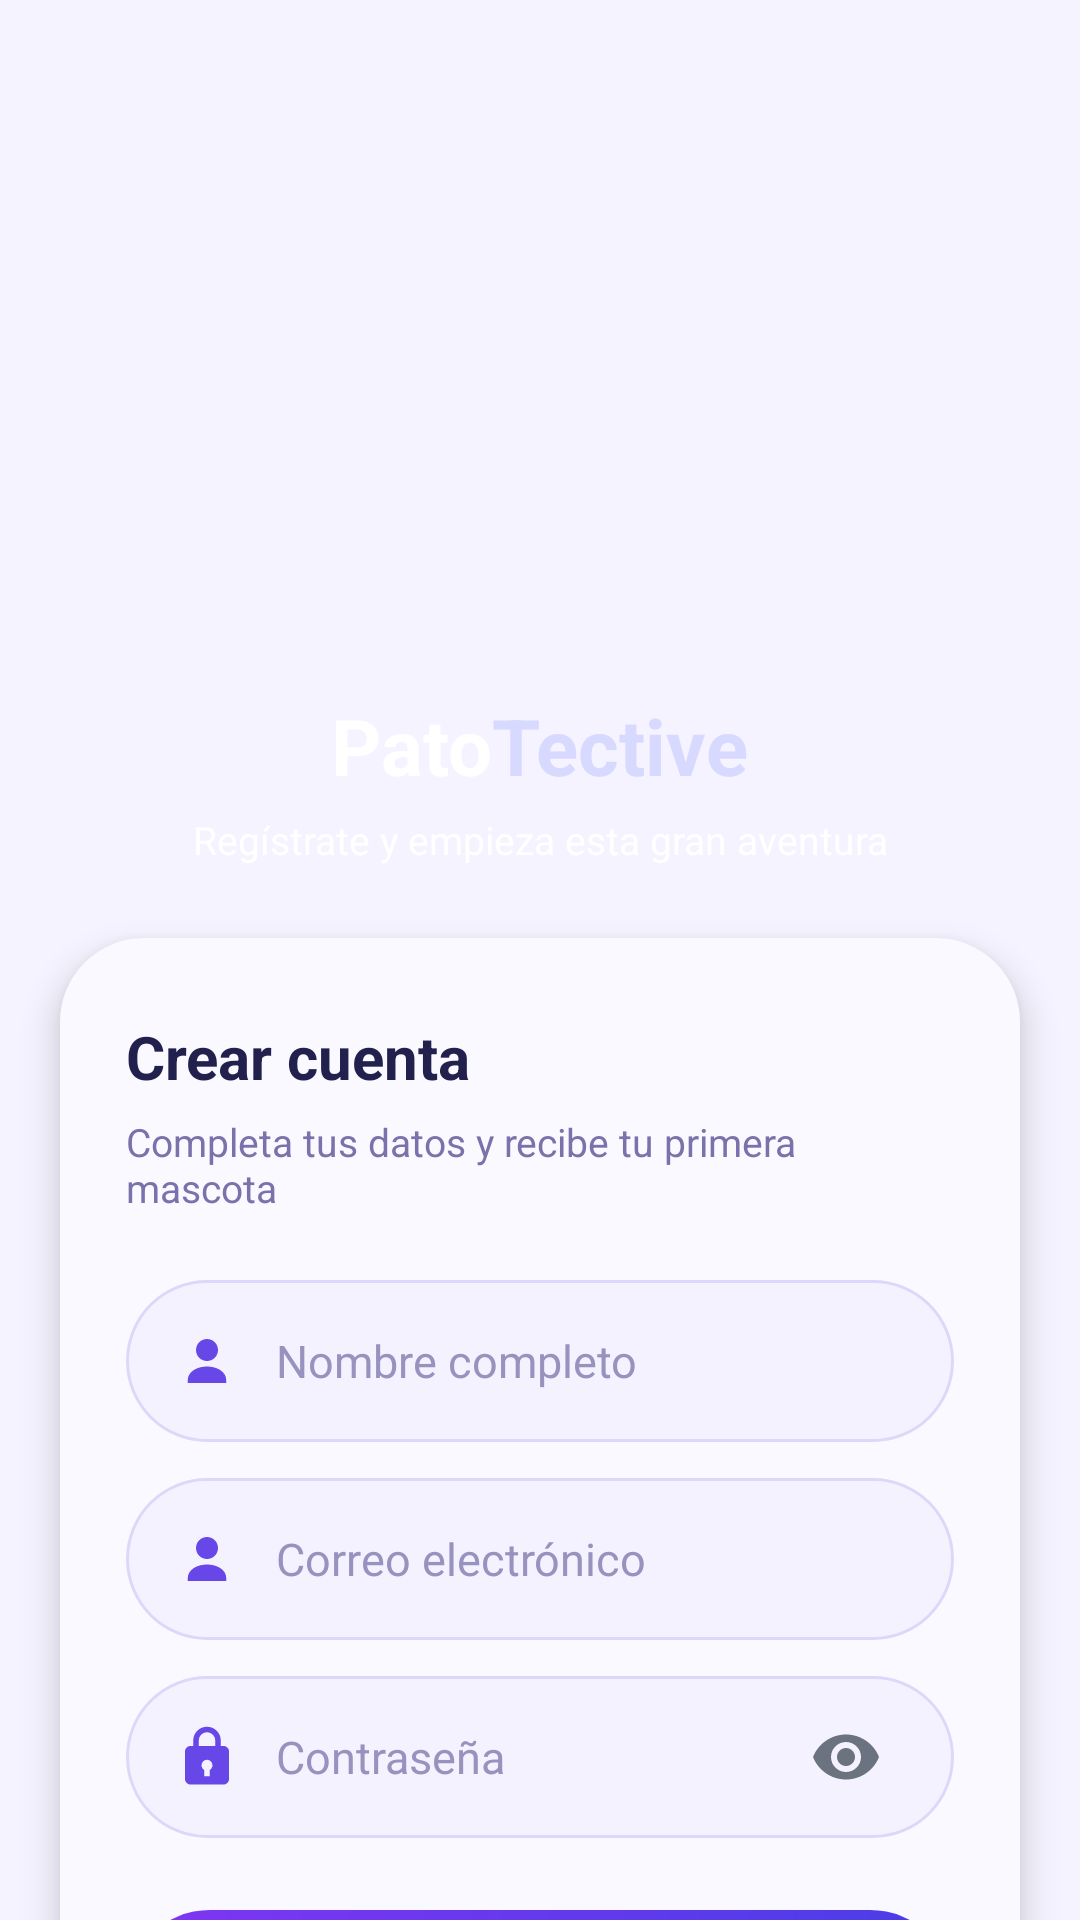

Where icons sit on this 1080 × 1920 app screen, as [x1=x1, y1=y1, x2=x2, y2=y2]:
login lock: [x1=185, y1=1726, x2=229, y2=1785]
login user: [x1=187, y1=1339, x2=227, y2=1383], [x1=187, y1=1537, x2=227, y2=1581]
